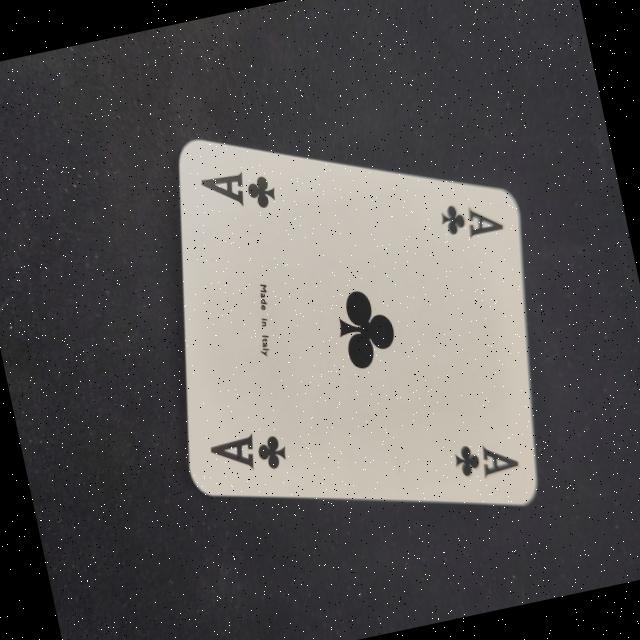Ac: (193, 149, 283, 228), (202, 416, 296, 488), (429, 190, 512, 252), (444, 428, 524, 492)
